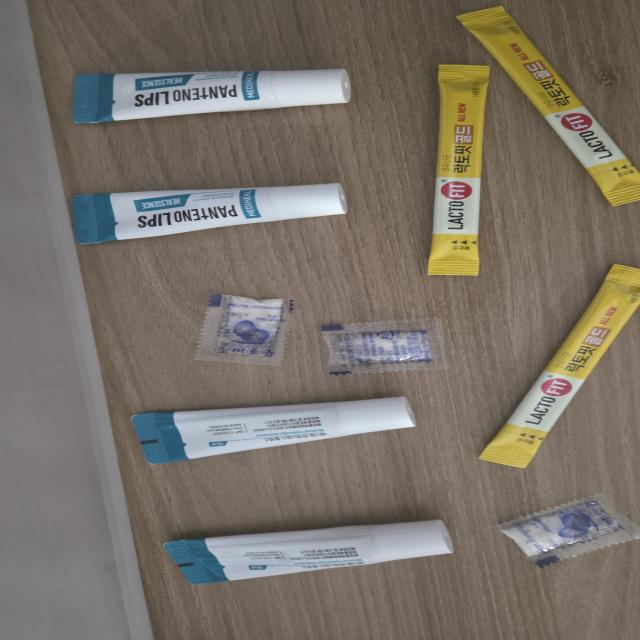lacto: (454, 0, 640, 208), (478, 258, 639, 476), (430, 47, 493, 280)
lib: (122, 394, 424, 469), (60, 181, 371, 248), (156, 518, 465, 584), (62, 69, 369, 124)
salt: (495, 488, 640, 567), (311, 319, 465, 379), (186, 292, 297, 366)
